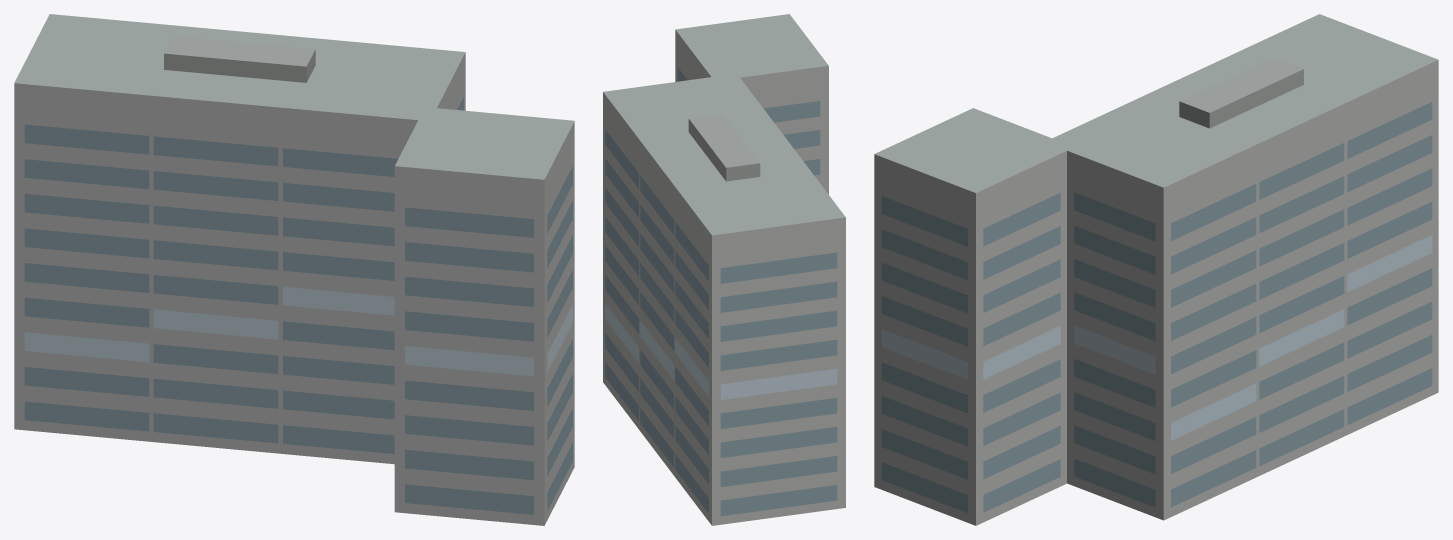
Rendered from fallback-dmc-raemian-e-pyeonhansesang-102.glb.
The picture shows the model from 3 angles, left to right: view 1: azimuth 30°, elevation 25°; view 2: azimuth 150°, elevation 25°; view 3: azimuth 270°, elevation 25°; orthographic projection. The views are drawn at different scales.
Visible parts, largest first — view 1: fallback-dmc-raemian-e-pyeonhansesang-102; view 2: fallback-dmc-raemian-e-pyeonhansesang-102; view 3: fallback-dmc-raemian-e-pyeonhansesang-102.
Boxes of the visible parts, box(x1,y1,x2,y2) form: fallback-dmc-raemian-e-pyeonhansesang-102: box(14, 14, 574, 525); fallback-dmc-raemian-e-pyeonhansesang-102: box(603, 14, 845, 525); fallback-dmc-raemian-e-pyeonhansesang-102: box(874, 14, 1438, 525).
Bounding box in the file's own units: 34.18 × 31 × 45.51.
